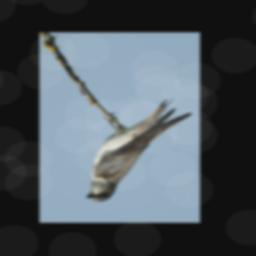Swallow: (86, 98, 192, 202)
